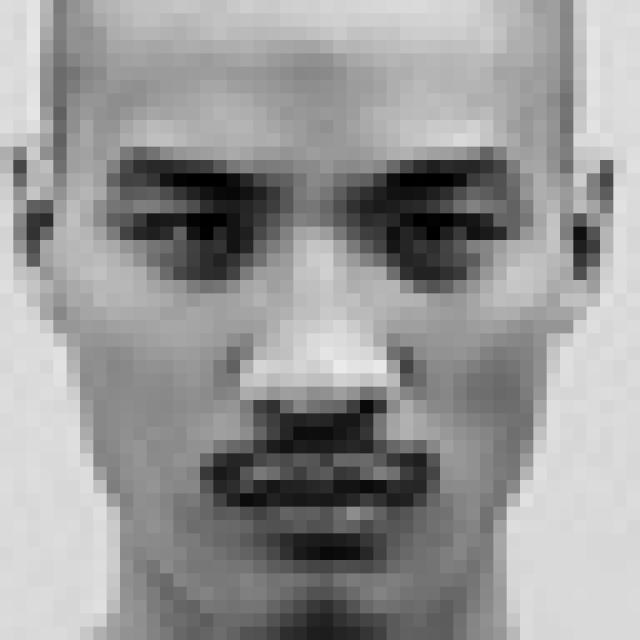neutral: (97, 147, 532, 560)
